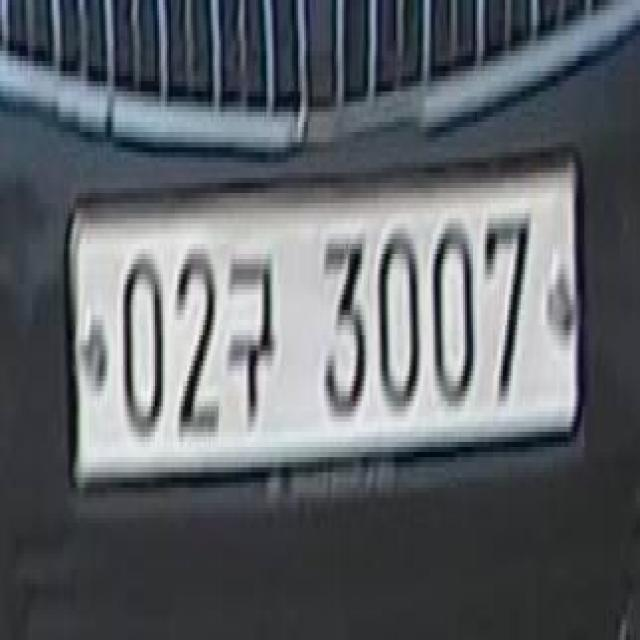illegal_plate: (72, 148, 586, 525)
